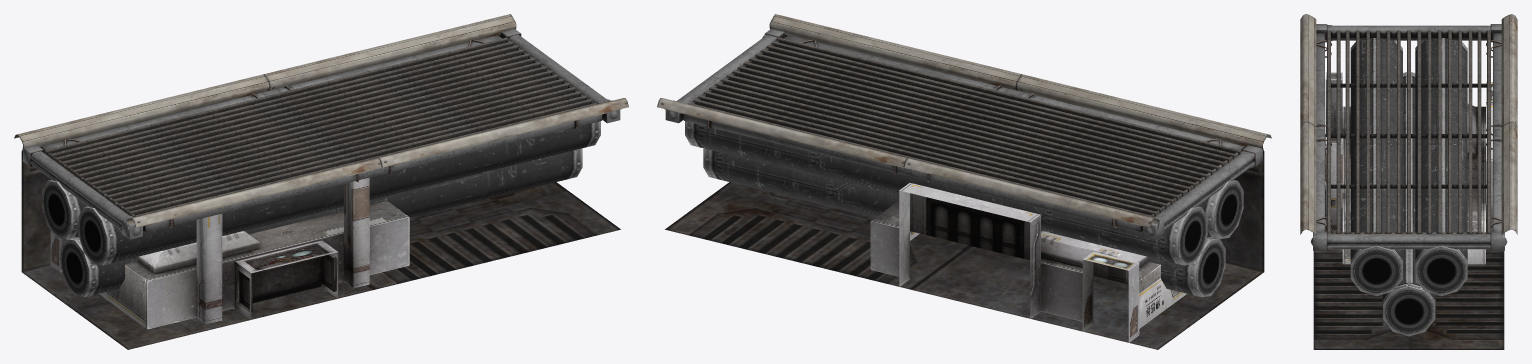
File: lab_pipes_box_grated_straight.dae
3 views of the same model, side by side, from view 1: azimuth 30°, elevation 25°; view 2: azimuth 150°, elevation 25°; view 3: azimuth 270°, elevation 25° (orthographic). The views are drawn at different scales.
Parts seen in each view (by area): view 1: polySurface24, Geometry_mesh001Node, polySurface1, polySurface8, polySurface3, polySurface13; view 2: polySurface24, polySurface8, polySurface1, Geometry_mesh001Node, polySurface3, polySurface13; view 3: polySurface1, polySurface24, polySurface8, polySurface13, polySurface3, Geometry_mesh001Node.
Boxes of the visible parts, box(x1,y1,x2,y2) form: polySurface24: box(44, 37, 597, 216); Geometry_mesh001Node: box(50, 177, 409, 329); polySurface1: box(42, 121, 600, 297); polySurface8: box(21, 35, 620, 349); polySurface3: box(14, 14, 628, 229); polySurface13: box(22, 29, 620, 239); polySurface24: box(688, 37, 1241, 217); polySurface8: box(665, 35, 1264, 349); polySurface1: box(685, 121, 1243, 297); Geometry_mesh001Node: box(870, 183, 1186, 342); polySurface3: box(657, 14, 1271, 229); polySurface13: box(665, 29, 1263, 239); polySurface1: box(1350, 38, 1467, 336); polySurface24: box(1327, 30, 1490, 233); polySurface8: box(1313, 135, 1504, 349); polySurface13: box(1310, 24, 1507, 250); polySurface3: box(1300, 14, 1517, 241); Geometry_mesh001Node: box(1325, 72, 1492, 264).
Bounding box in the file's own units: 4 × 1.04 × 1.71.
